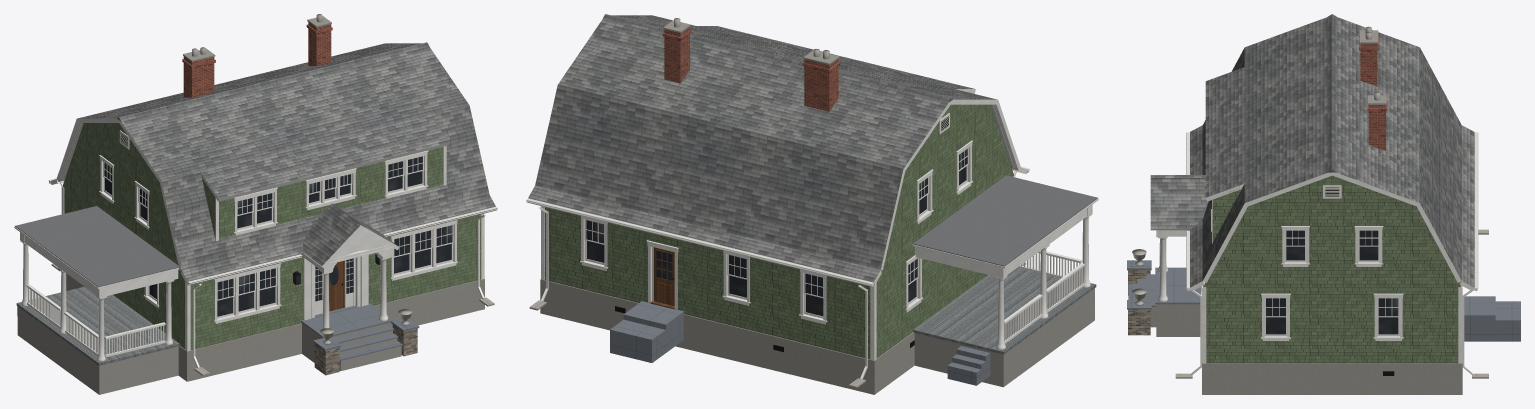
Rendered from rossi-house.glb.
The picture shows the model from 3 angles, left to right: view 1: azimuth 30°, elevation 25°; view 2: azimuth 150°, elevation 25°; view 3: azimuth 270°, elevation 25°; orthographic projection. The views are drawn at different scales.
Parts seen in each view (by area): view 1: Roof, House, Porch; view 2: Roof, House, Porch; view 3: Roof, House, Porch.
Part boxes in pixels (x1,y1,x2,y2): Roof: (15,14,497,375); House: (61,123,484,381); Porch: (14,226,419,394); Roof: (526,14,1097,388); House: (540,104,1015,394); Porch: (610,198,1098,387); Roof: (1150,14,1488,378); House: (1201,175,1462,394); Porch: (1127,189,1520,341).
Size of the model in its own units: 16.35 by 10.22 by 13.99.
17 materials, 15 textured.
